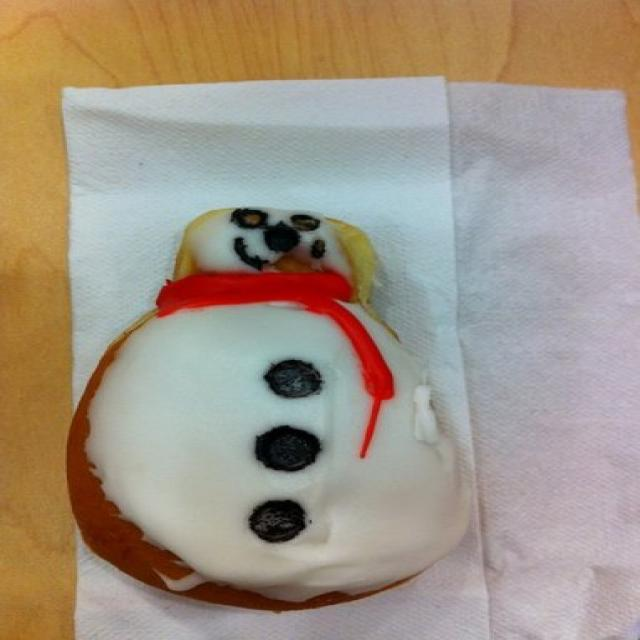Donuts: (57, 197, 487, 618)
